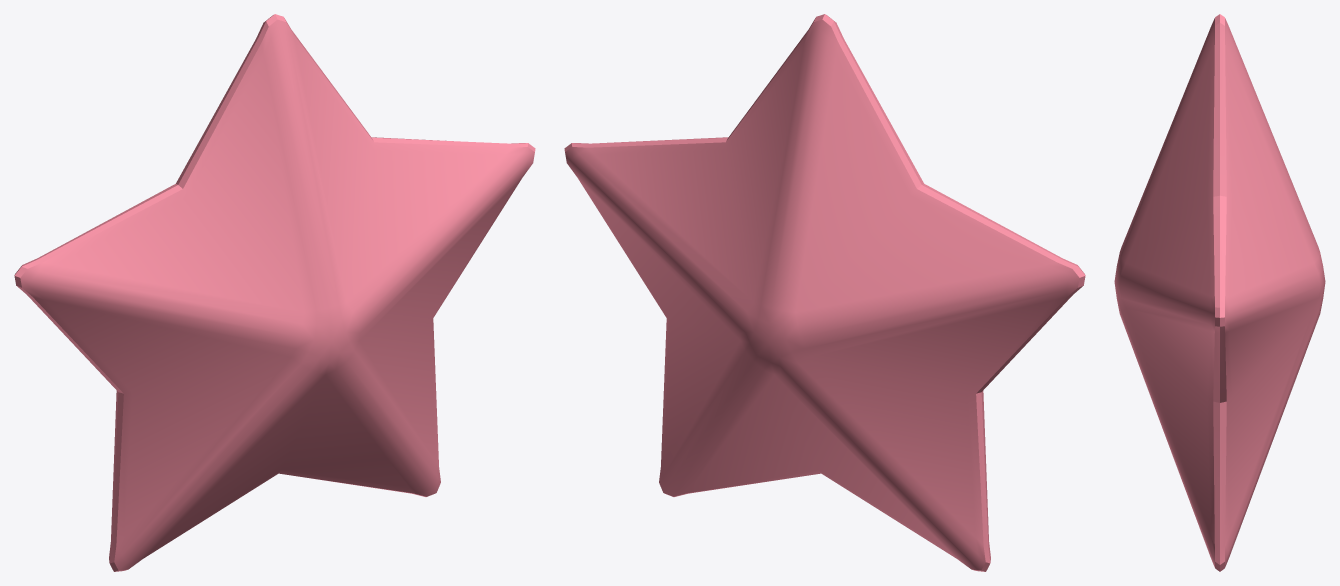
File: Star.gltf
3 renders of one model, left to right at view 1: azimuth 30°, elevation 25°; view 2: azimuth 150°, elevation 25°; view 3: azimuth 270°, elevation 25°, orthographic. The views are drawn at different scales.
Parts seen in each view (by area): view 1: star; view 2: star; view 3: star.
Part boxes in pixels (x1,y1,x2,y2): star: (14, 14, 535, 571); star: (564, 14, 1085, 571); star: (1114, 14, 1325, 571).
Size of the model in its own units: 1.23 by 1.18 by 0.4633.
